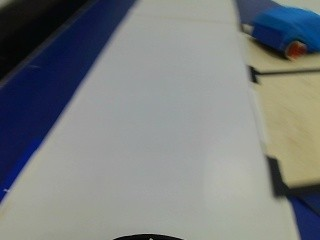car: (244, 7, 318, 62)
